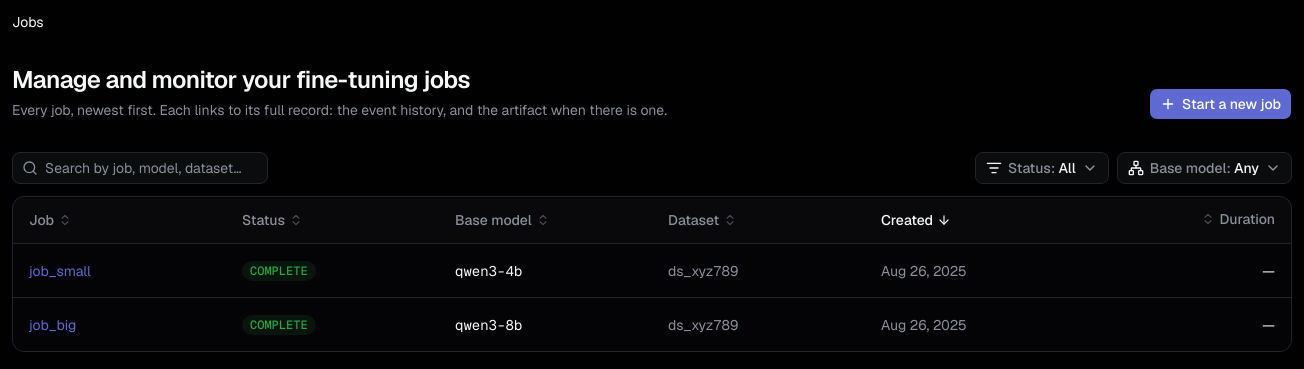
Test case: JobsView › narrows the list to one model through the filter
Click the button with aria-label "Filter by base model": (1204, 168) [1117, 152, 1292, 184]
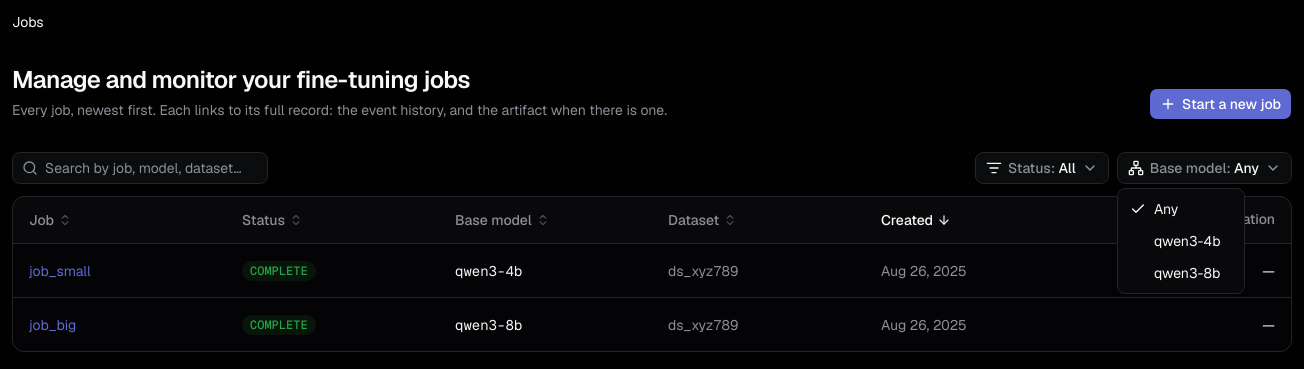
Click the menu item "qwen3-8b": (1187, 273) [1154, 264, 1220, 282]
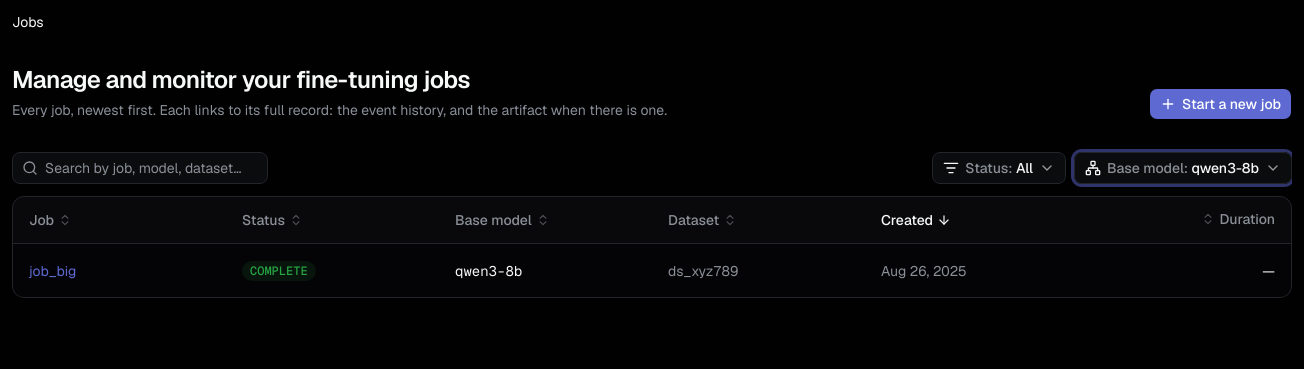
Expected: the link "job_big" is shown, [29, 262, 76, 280]
Now the link "job_small" is gone
